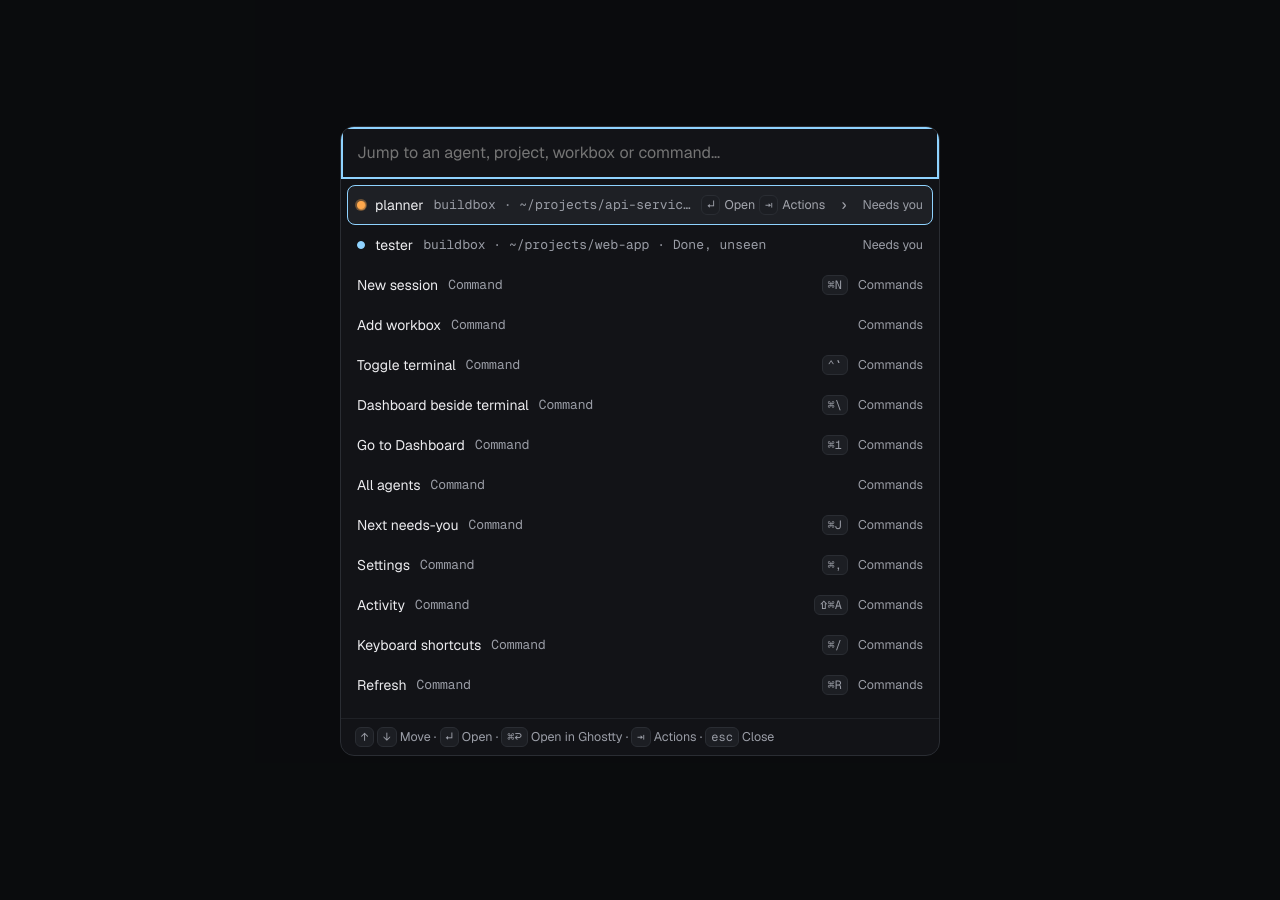
it: CommandPalette › says_so_when_nothing_matches
Type "qqqqzz" into the dropdown at (640, 153), box [341,127,939,179]
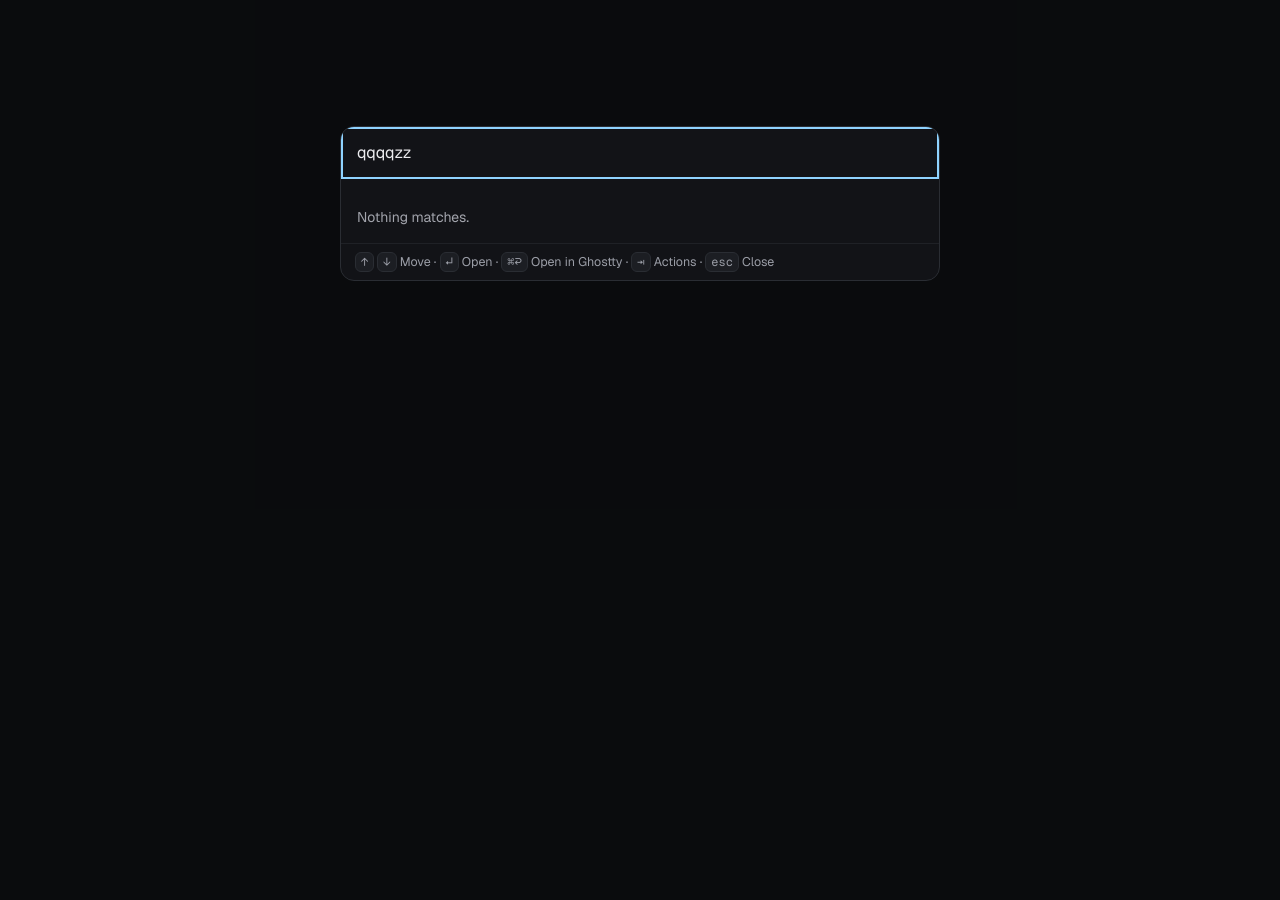
Now no options are shown
Now the text "Nothing matches." is shown, box [357,208,469,226]
